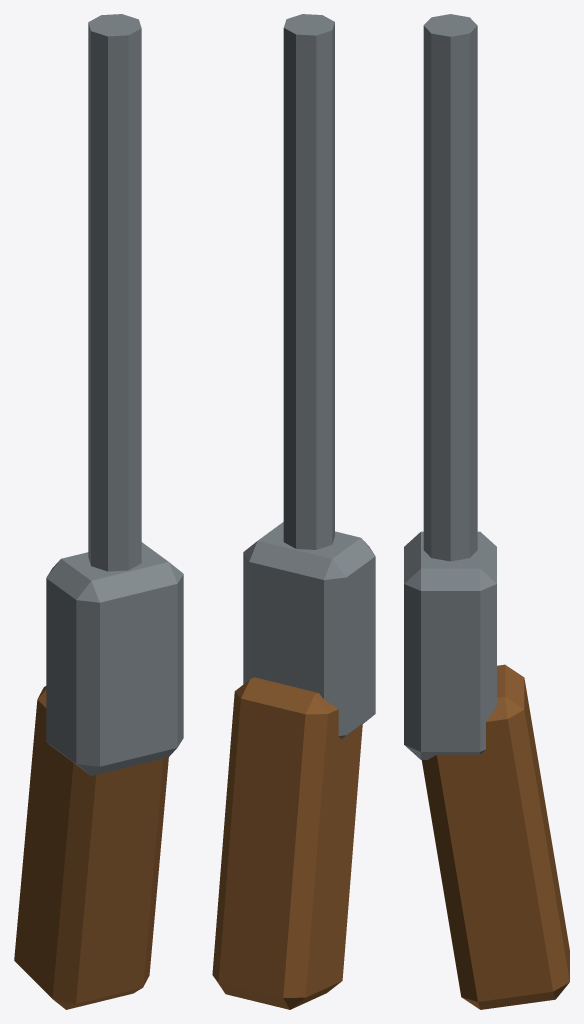
The model's file is pieza-villager-firearm-e3-ChbYdeNU.glb.
The picture shows the model from 3 angles, left to right: view 1: azimuth 30°, elevation 25°; view 2: azimuth 150°, elevation 25°; view 3: azimuth 270°, elevation 25°; orthographic projection. The views are drawn at different scales.
Parts seen in each view (by area): view 1: prop_firearm_e3; view 2: prop_firearm_e3; view 3: prop_firearm_e3.
Part boxes in pixels (x1,y1,x2,y2): prop_firearm_e3: (14,14,183,1009); prop_firearm_e3: (212,14,375,1009); prop_firearm_e3: (404,14,569,1009).
Bounding box in the file's own units: 0.72 × 6.32 × 0.9808.
